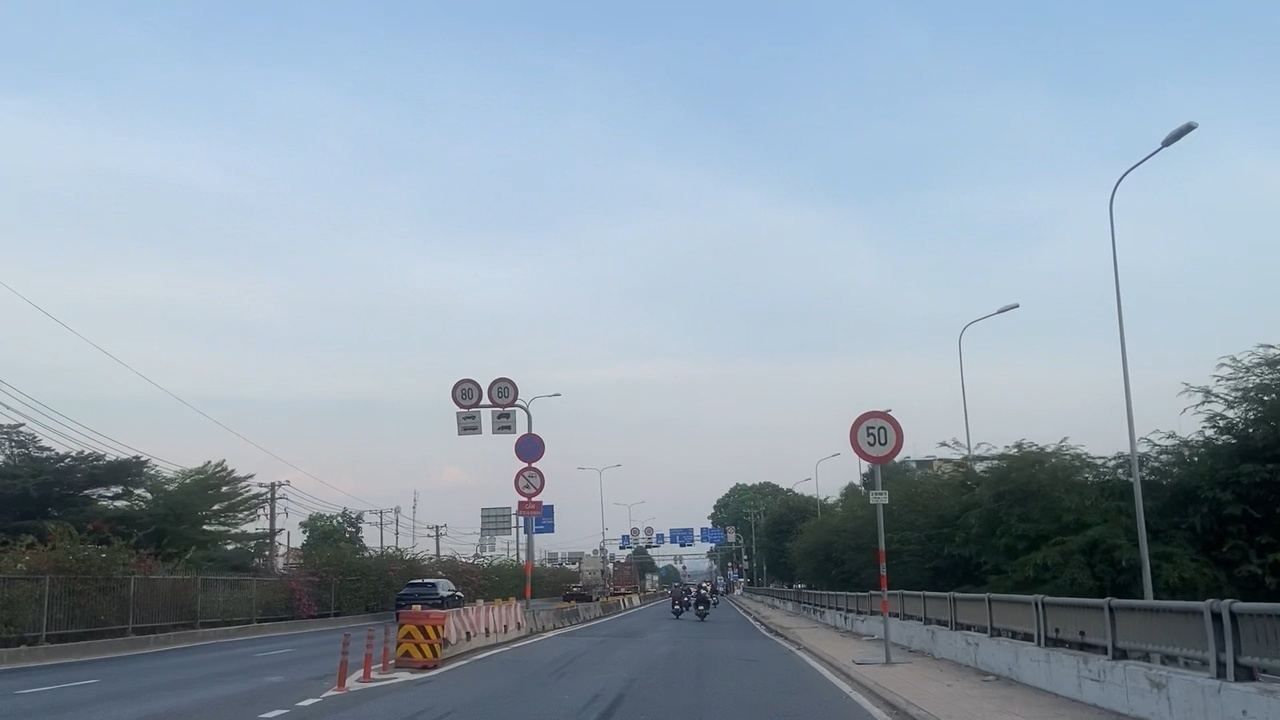gioi_han_50km: (848, 408, 906, 466)
gioi_han_60km: (487, 375, 520, 410)
gioi_han_80km: (450, 378, 484, 410)
